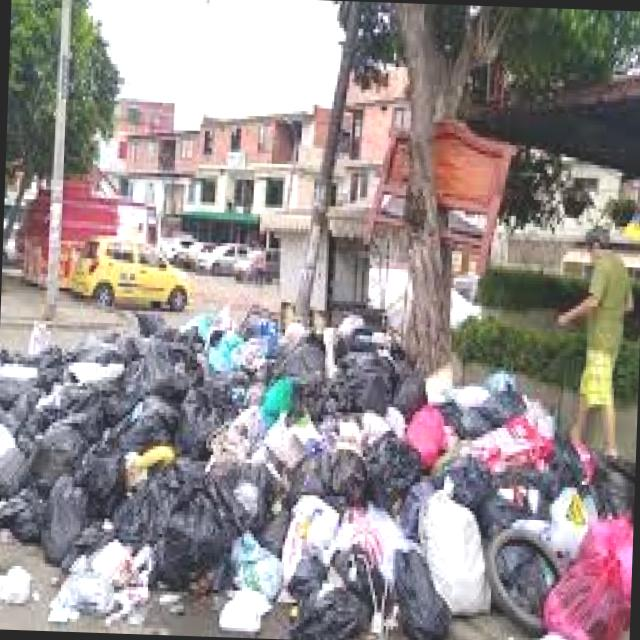garbage: (1, 294, 640, 640)
